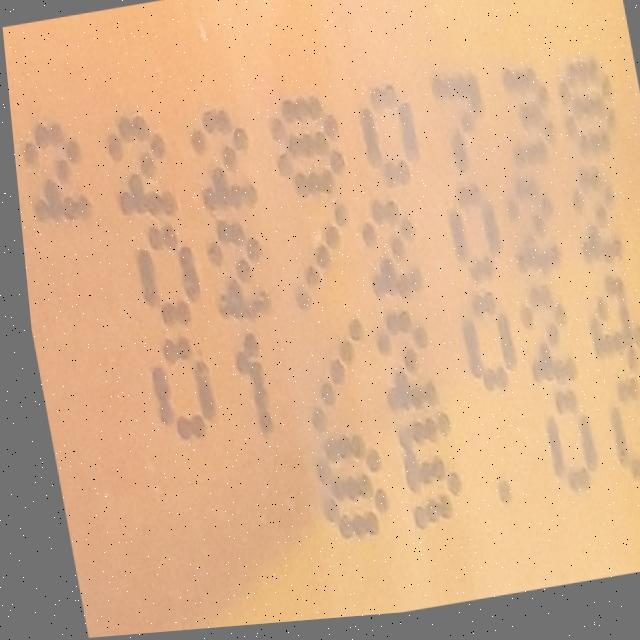sentence: (143, 273, 636, 444), (131, 172, 616, 329), (180, 65, 612, 228), (305, 401, 640, 544), (18, 115, 183, 228)
